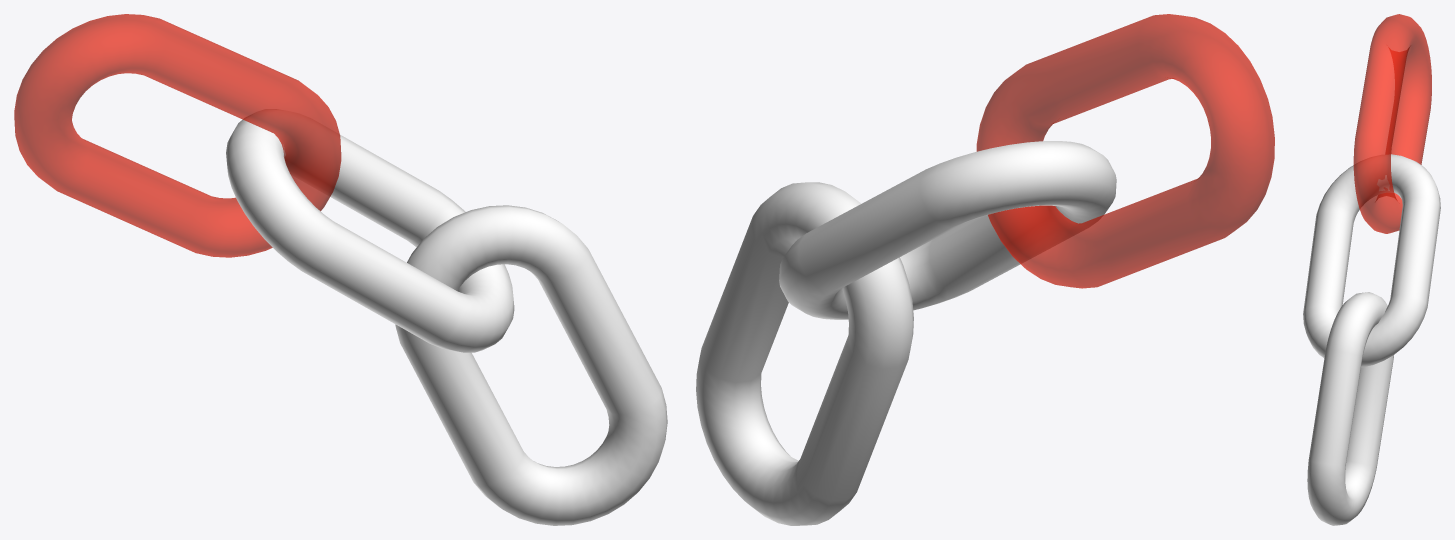
File: Chain.glb
3 renders of one model, left to right at view 1: azimuth 30°, elevation 25°; view 2: azimuth 150°, elevation 25°; view 3: azimuth 270°, elevation 25°, orthographic. The views are drawn at different scales.
Visible parts, largest first — view 1: Chain; view 2: Chain; view 3: Chain.
Part boxes in pixels (box(x1,y1,x2,y2)): Chain: box(14, 14, 667, 525); Chain: box(696, 14, 1274, 525); Chain: box(1303, 14, 1440, 525).
Bounding box in the file's own units: 3.07 × 2.92 × 0.9806.
